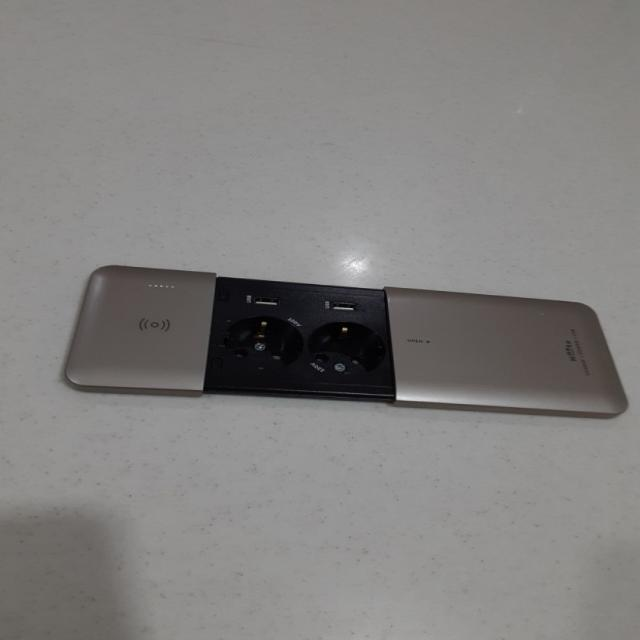typeb: (136, 252, 468, 451)
